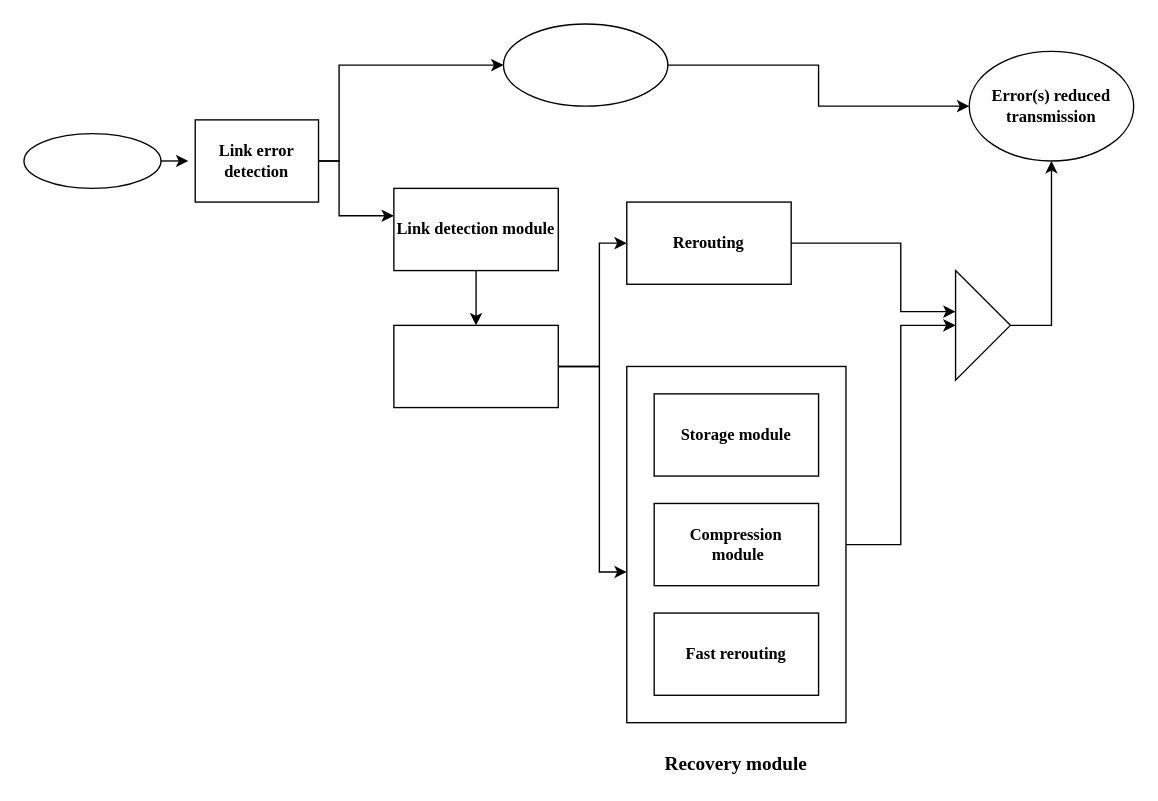
Some shapes in this 1158 by 801 pixel diagram are drawn without their labels. Here are the shapes that lost their labels. From the top down, the centre of each, then its label:
the point at 585,64: Error free routing
the point at 92,160: Network
the point at 475,366: Detected failure link
